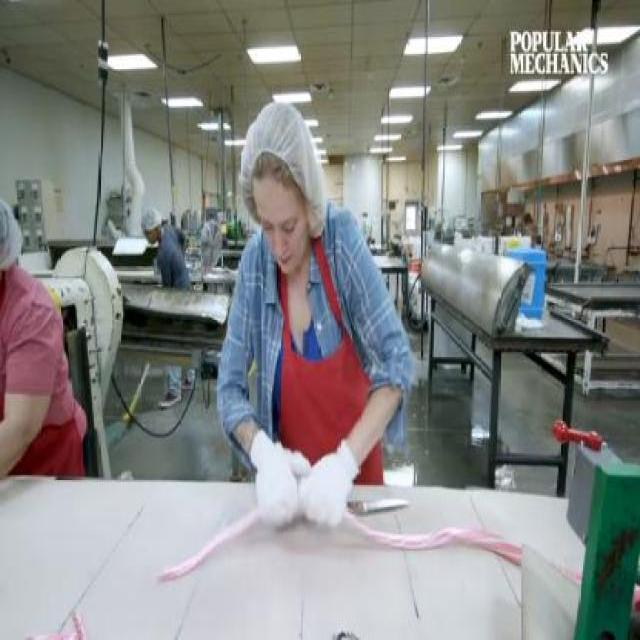hairnet: (241, 95, 321, 188), (0, 197, 23, 270)
